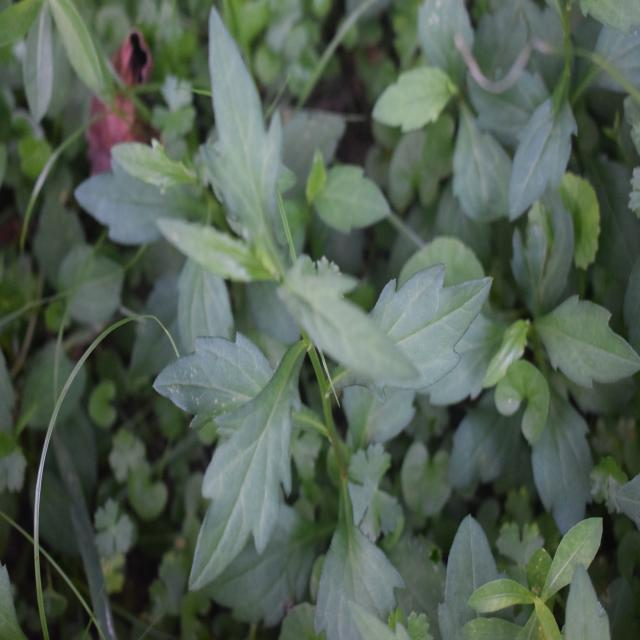Indian aster: (170, 41, 445, 535)
